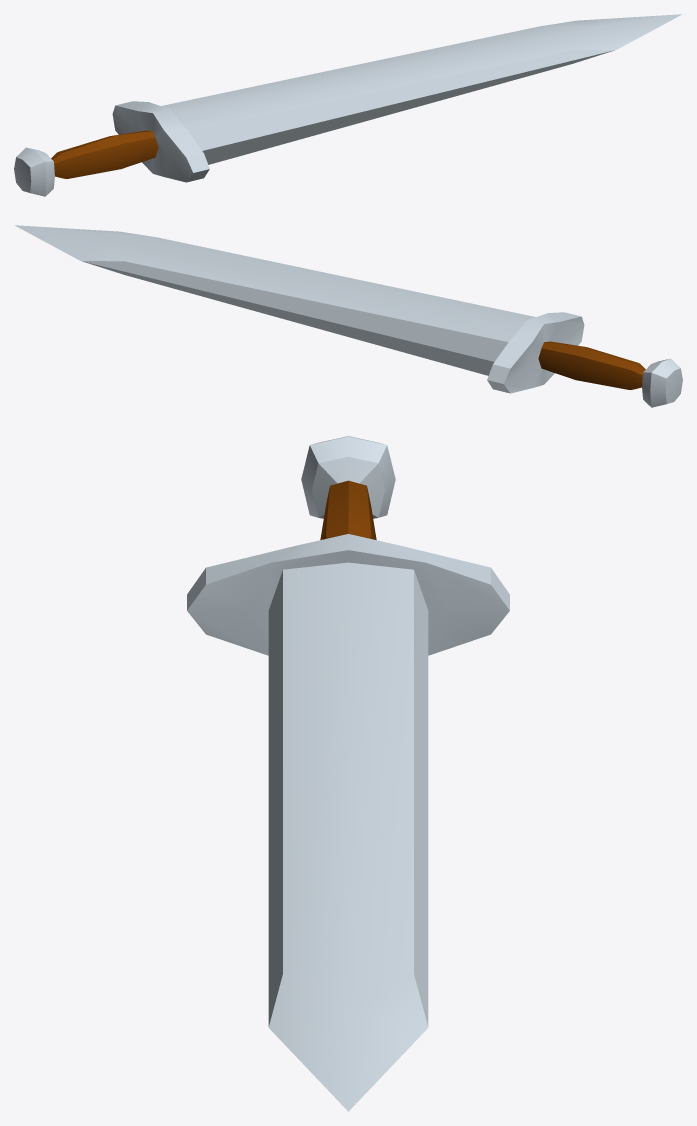
File: SimpleSword.fbx
The picture shows the model from 3 angles, top to bottom: view 1: azimuth 30°, elevation 25°; view 2: azimuth 150°, elevation 25°; view 3: azimuth 270°, elevation 25°; orthographic projection. The views are drawn at different scales.
Visible parts, largest first — view 1: Sword; view 2: Sword; view 3: Sword.
Boxes of the visible parts, x1,y1,x2,y2 form: Sword: (14,14,681,196); Sword: (15,225,682,407); Sword: (187,436,509,1111).
Size of the model in its own units: 105 by 43.42 by 495.
